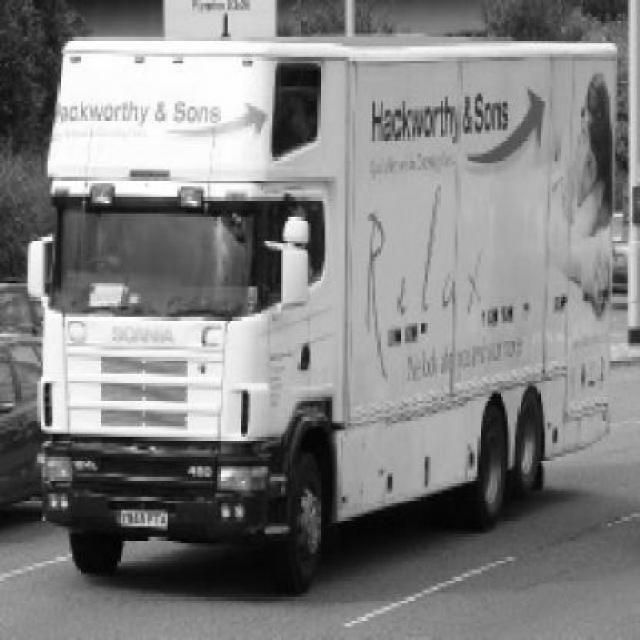Box Truck: (37, 36, 617, 599)
